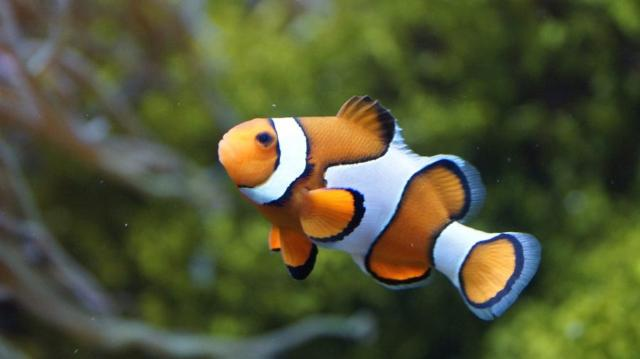Mulut: (203, 118, 259, 176)
Sirip Anal: (348, 243, 439, 295)
Sirip Dada: (295, 182, 369, 260)
Sirip Ekor: (440, 224, 560, 334)
Sirip Perut: (262, 219, 324, 293)
Sirip Punggung: (331, 86, 494, 226)
